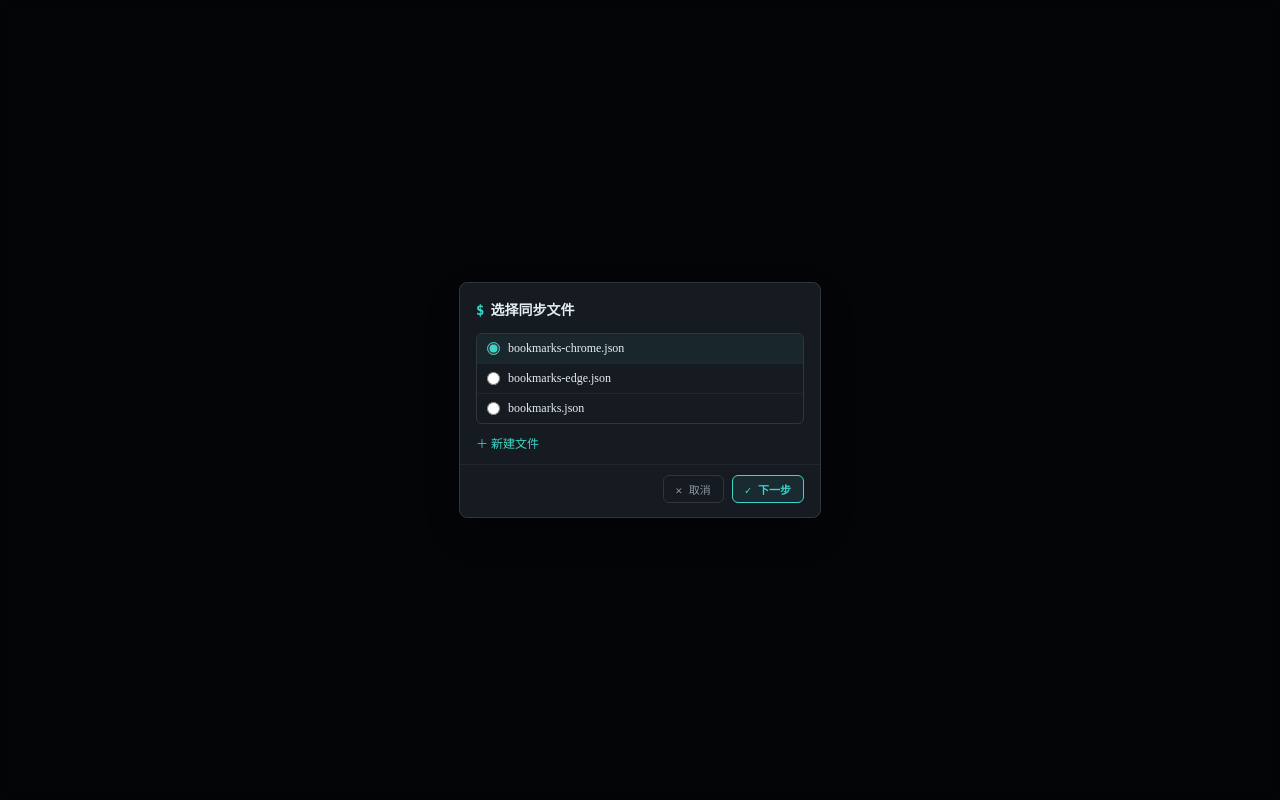
it: FilePickModal › push 模式非法名时确认按钮禁用
Click the button "＋ 新建文件": (508,443) [476,434,539,452]
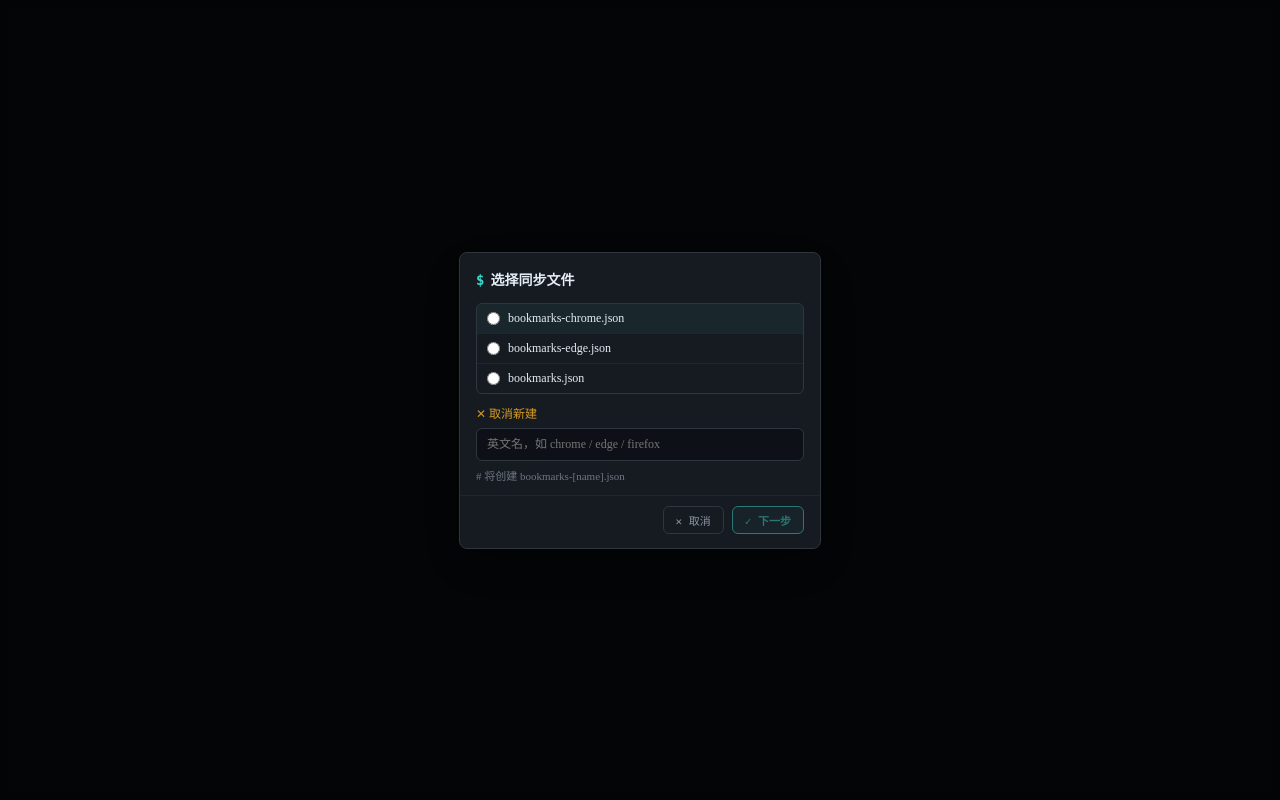
In the field with placeholder "英文名，如 chrome / edge / firefox": (640,444) [476,428,804,460], type "中文名"
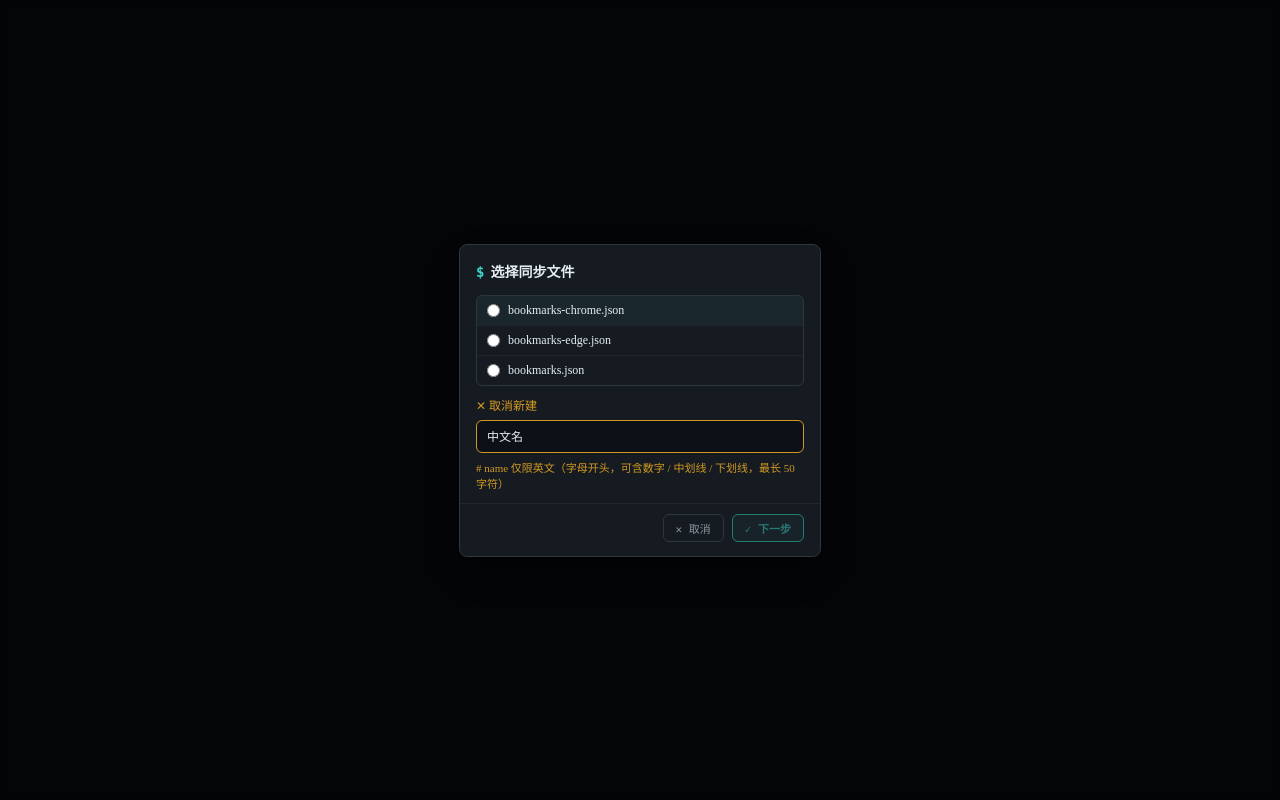
Result: the button "✓ 下一步" is disabled at [732,514,804,542]
Result: the text "# name 仅限英文（字母开头，可含数字 / 中划线 / 下划线，最长 50 字符）" is shown at [476,462,795,490]
